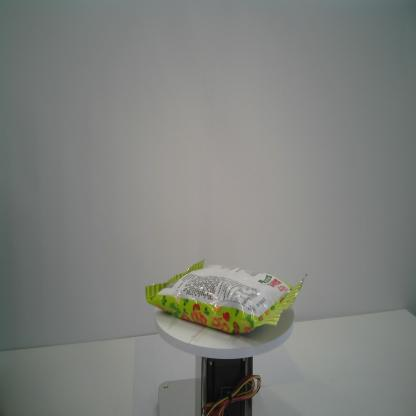Puffed Food: (143, 257, 310, 340)
